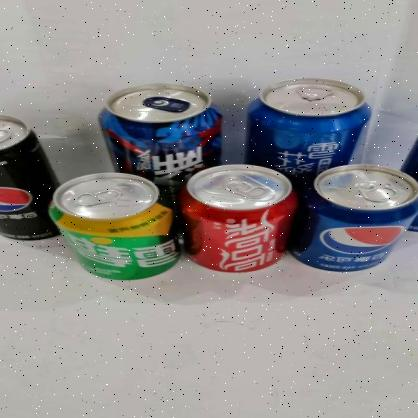can: (50, 170, 178, 281), (298, 163, 418, 271), (184, 162, 290, 274)
